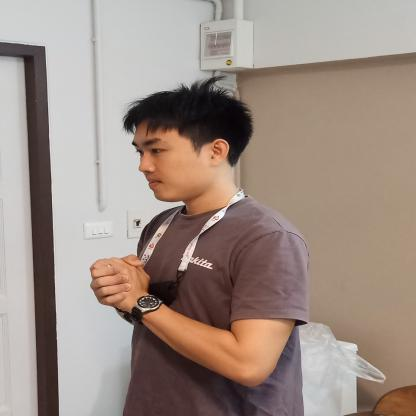Grieve: (44, 229, 233, 332)
